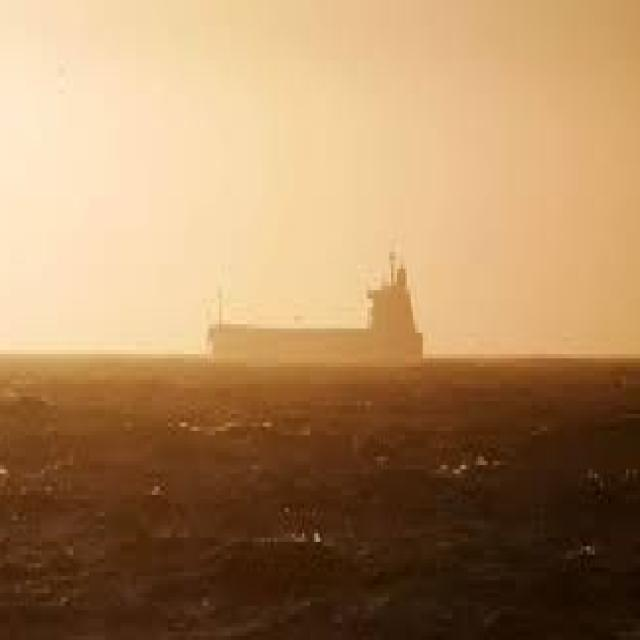cargoship: (198, 248, 422, 366)
